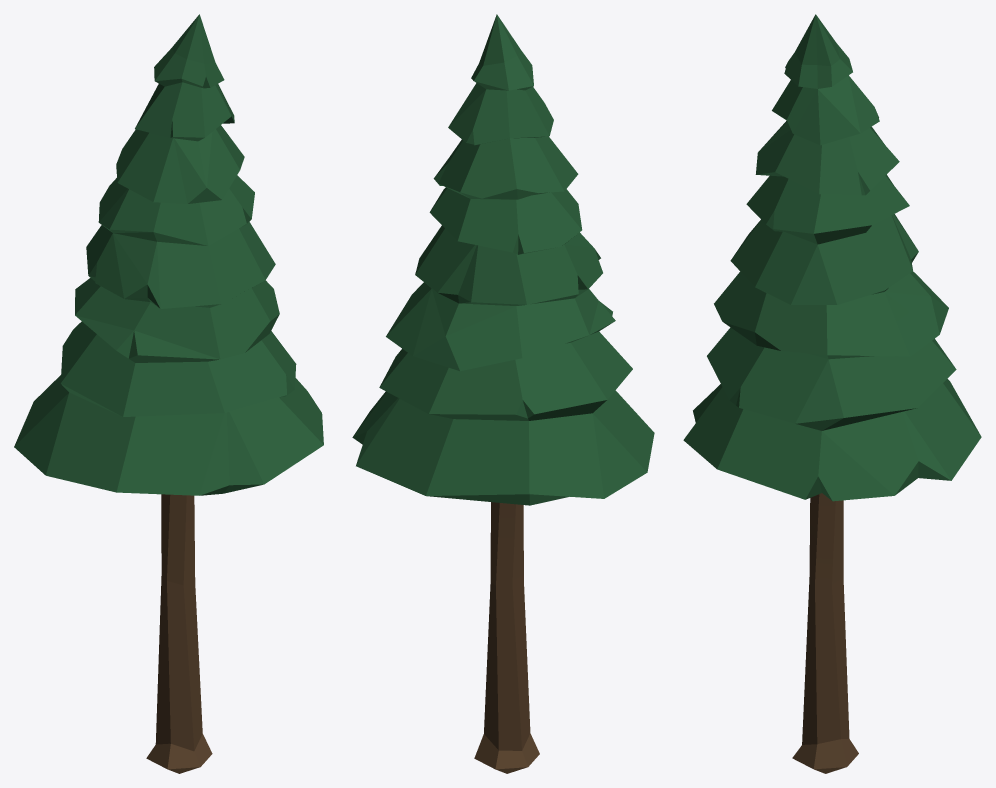
Rendered from tree5.fbx.
3 renders of one model, left to right at view 1: azimuth 30°, elevation 25°; view 2: azimuth 150°, elevation 25°; view 3: azimuth 270°, elevation 25°, orthographic.
Visible parts, largest first — view 1: polySurface1013; view 2: polySurface1013; view 3: polySurface1013.
Boxes of the visible parts, <box> form: polySurface1013: <box>14,14,323,773</box>; polySurface1013: <box>352,14,654,773</box>; polySurface1013: <box>683,14,981,773</box>.
Bounding box in the file's own units: 251 × 669 × 236.
